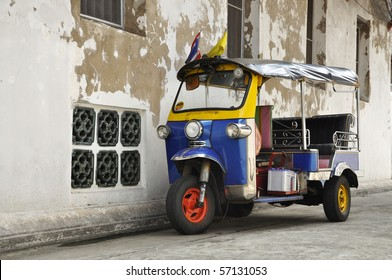threewheel: (156, 56, 360, 234)
